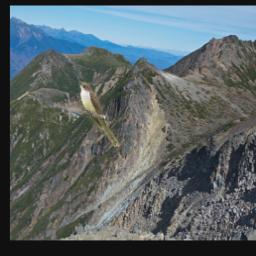Cuckoo: (78, 81, 120, 147)
